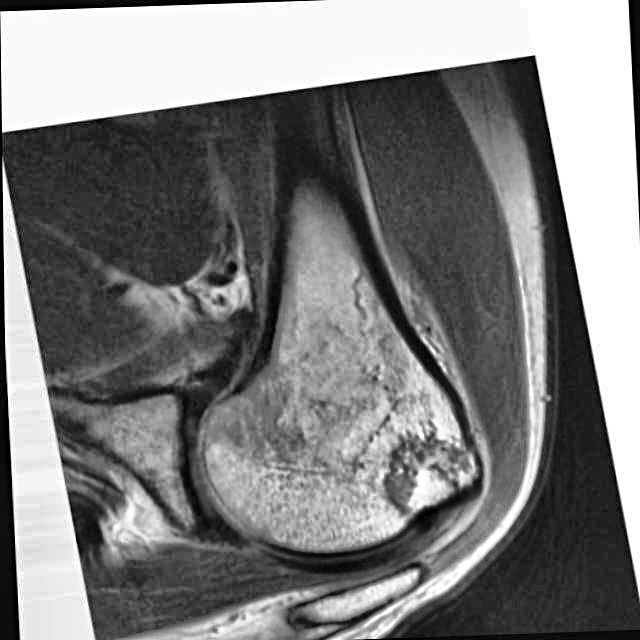Comminuted: (360, 422, 492, 529)
